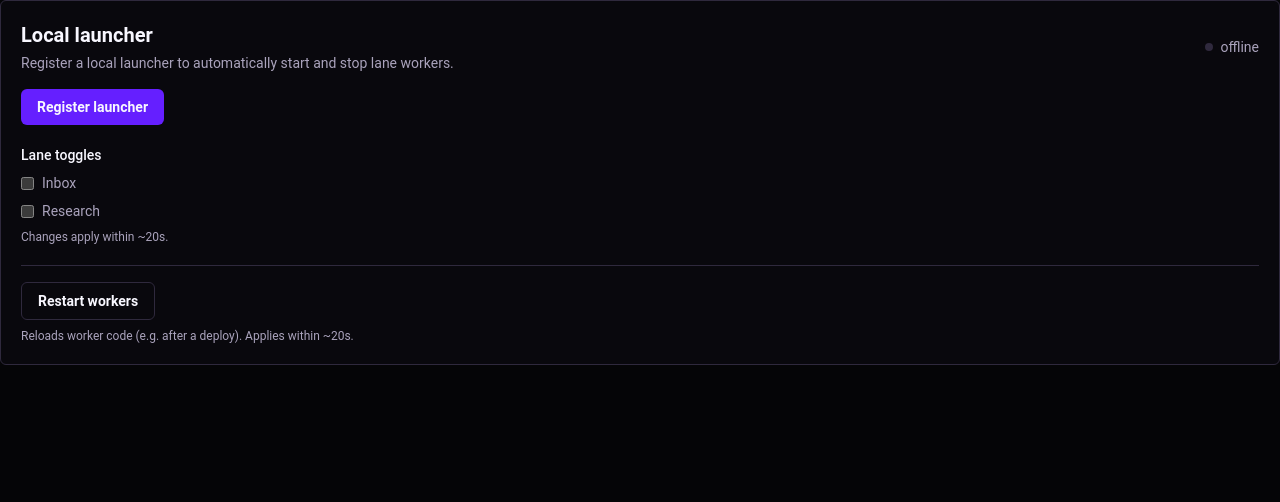
Scenario: LauncherPanel › shows macOS and Windows install commands after registering
Step 1. Click the button "Register launcher" → [92, 107], box [21,89,164,125]
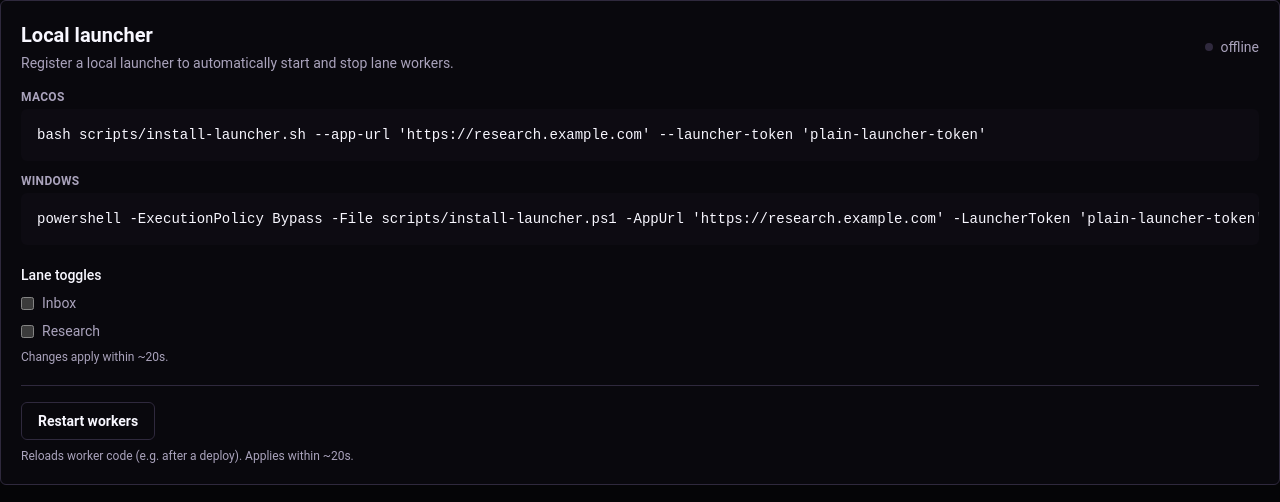
Now the text "bash scripts/install-launcher.sh --app-url 'https://research.example.com' --launcher-token 'plain-launcher-token'" is shown, box [37,127,986,143]
Now the text "powershell -ExecutionPolicy Bypass -File scripts/install-launcher.ps1 -AppUrl 'https://research.example.com' -LauncherTo" is shown, box [37,211,1259,227]
